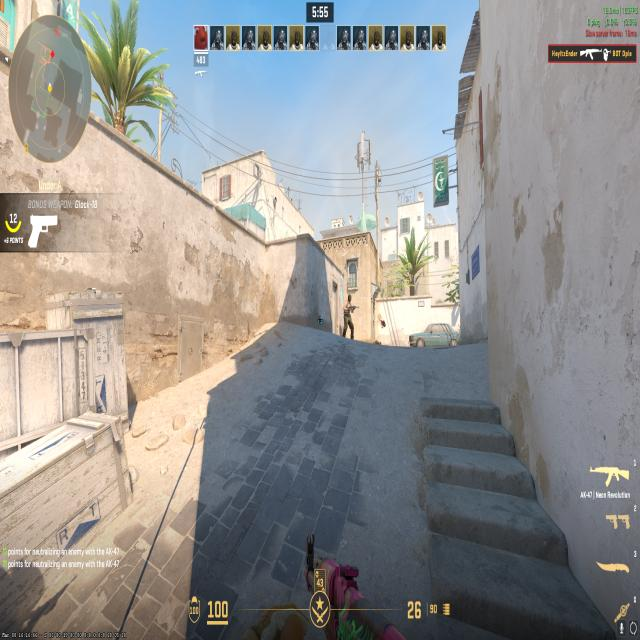t: (339, 284, 358, 344)
